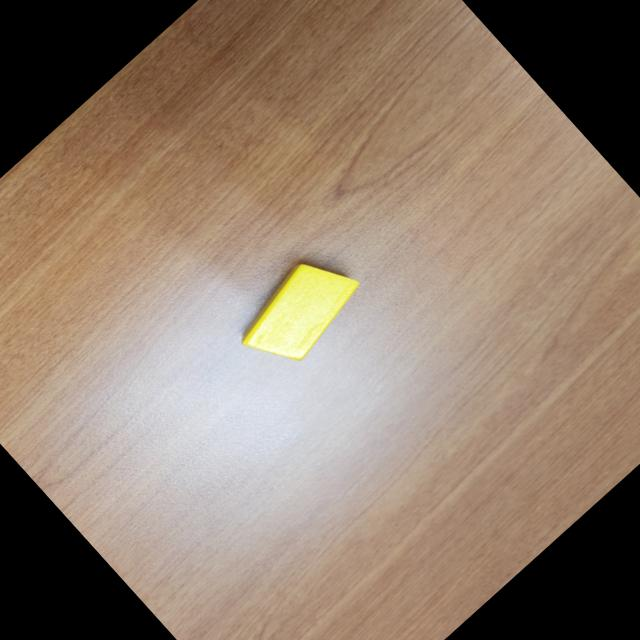yellow: (226, 236, 374, 382)
